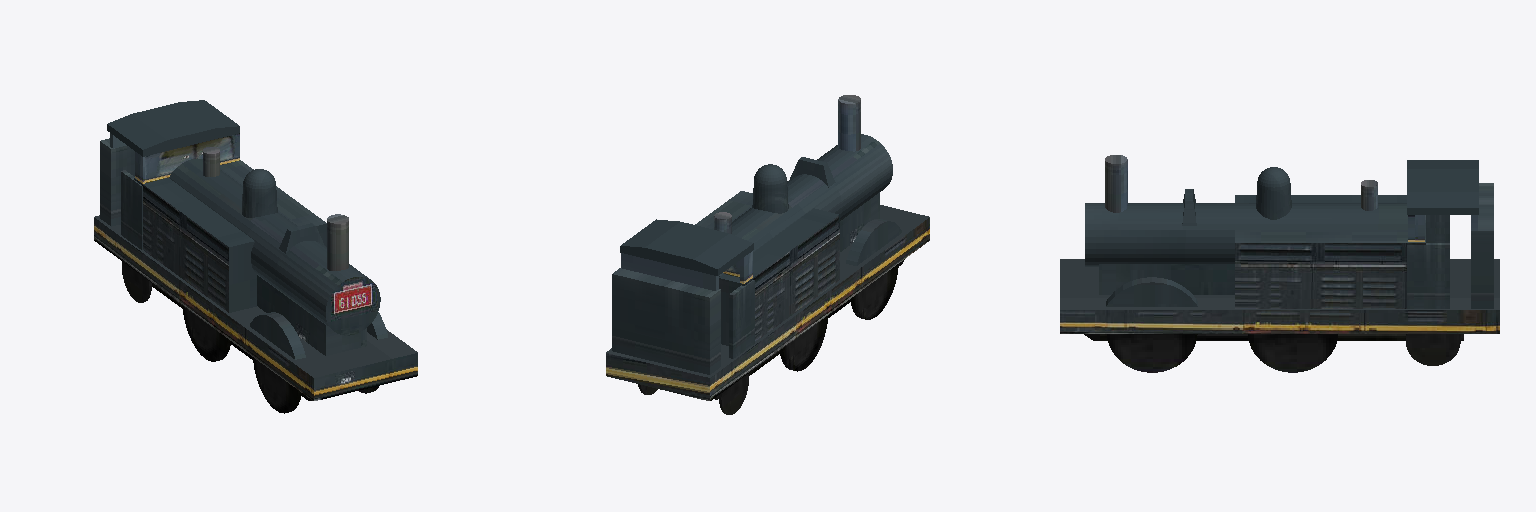
3 renders of one model, left to right at view 1: azimuth 30°, elevation 25°; view 2: azimuth 150°, elevation 25°; view 3: azimuth 270°, elevation 25°, orthographic.
Parts seen in each view (by area): view 1: train_圓柱體; view 2: train_圓柱體; view 3: train_圓柱體.
Part boxes in pixels (x1,y1,x2,y2): train_圓柱體: (94, 100, 417, 413); train_圓柱體: (606, 95, 929, 414); train_圓柱體: (1060, 155, 1499, 372).
Bounding box in the file's own units: 5.01 × 8.86 × 18.28.
Materials: 1 (1 with a texture image).